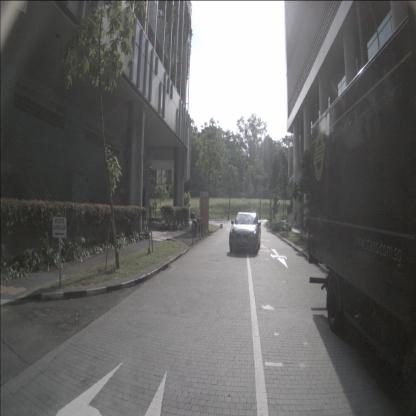vehicle-car: (229, 210, 261, 254)
vehicle-motorcycle: (192, 216, 206, 238)
vehicle-truck: (308, 11, 415, 406)
